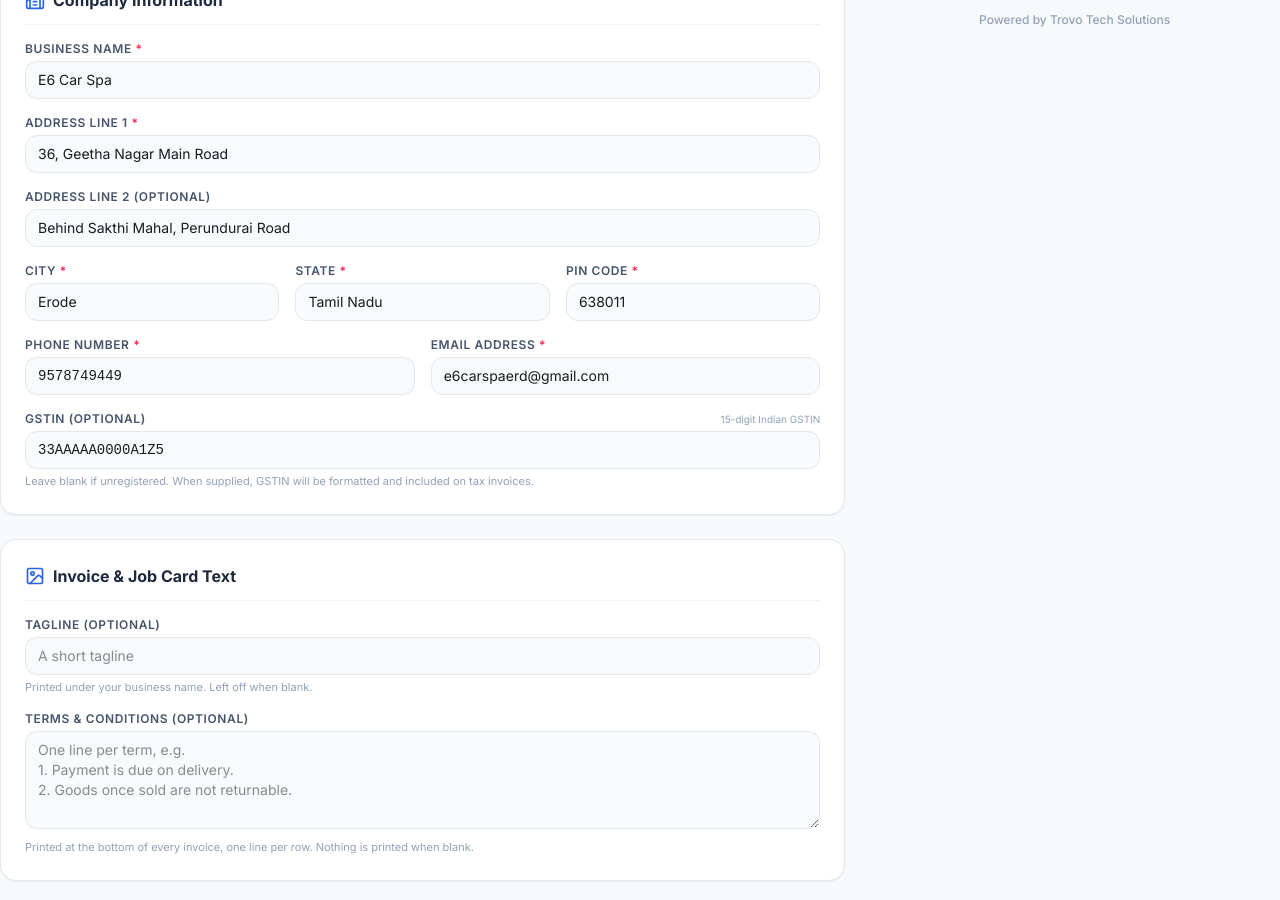
SettingsPage Component & Business Profile Boundary › validates GSTIN format on save and rejects malformed GSTIN
The width and height of the screenshot is (1280, 900).
(page scrolled)
Step 1. Replace the text in the field showing "33AAAAA0000A1Z5" below "GSTIN (Optional)" with "INVALID_GST_123" → point(423, 450), box [25,431,820,469]
(page scrolled)
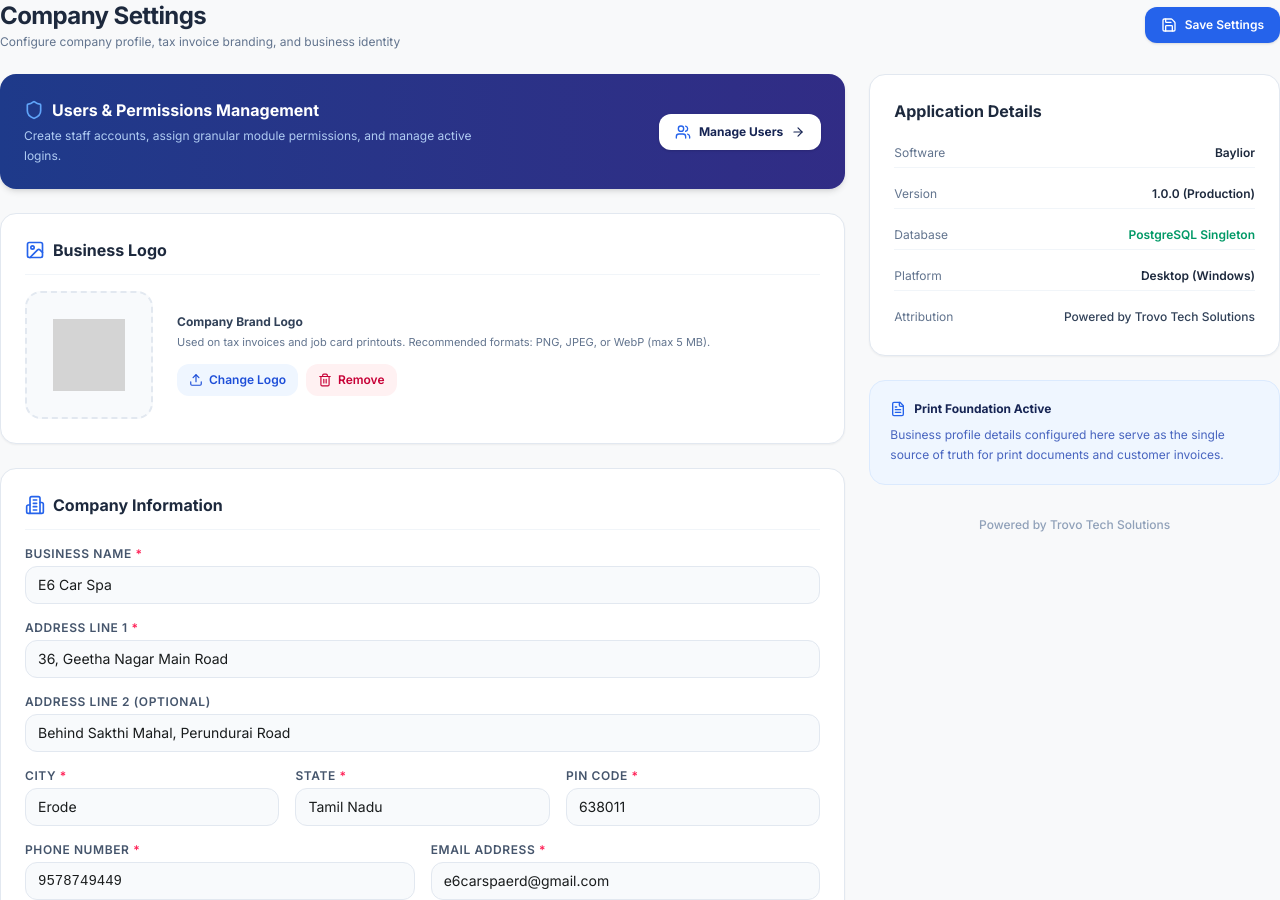
Step 2. Click the button "Save Settings" → point(1212, 25), box [1145,7,1279,43]
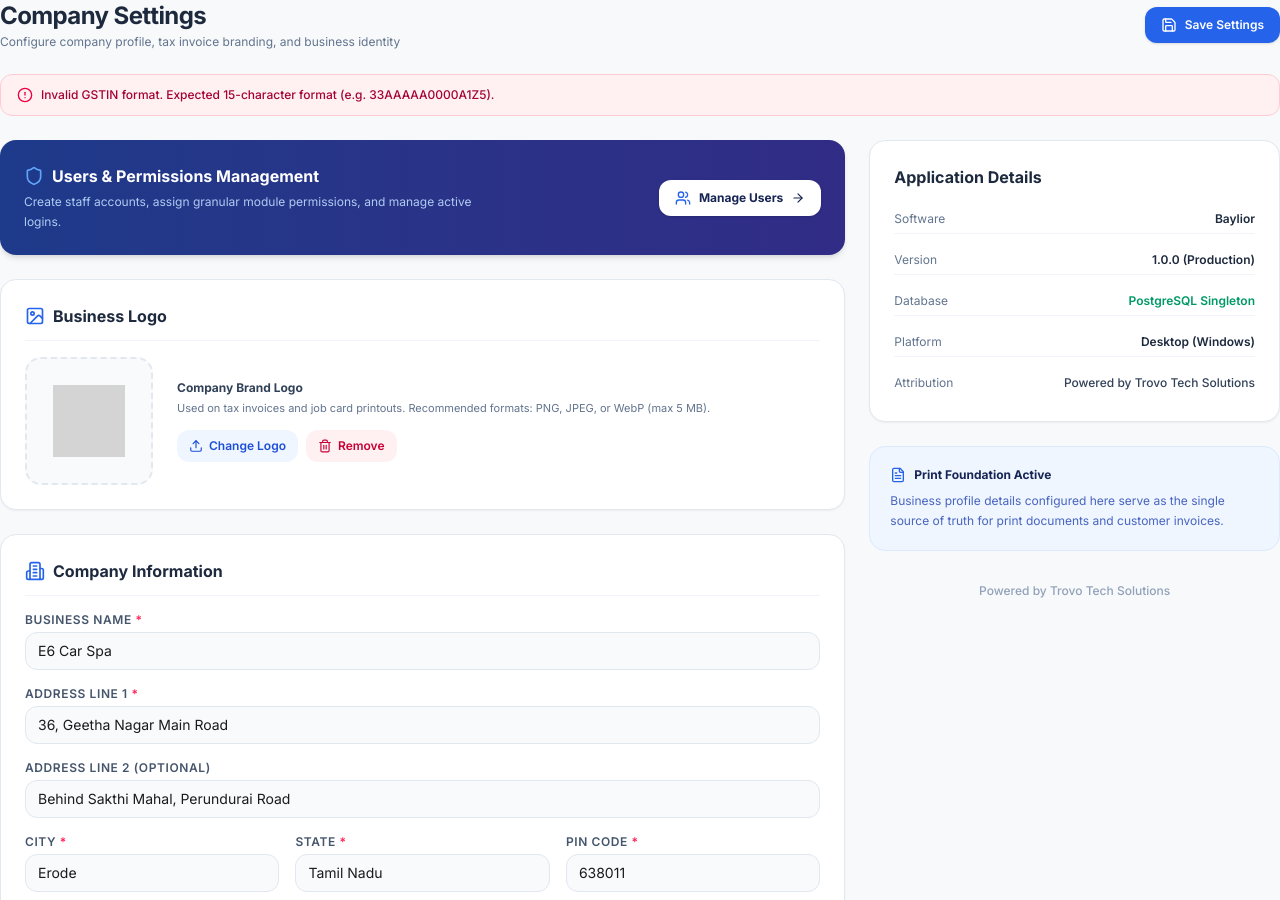
Expected: the text "Invalid GSTIN format. Expected 15-character format" is shown, [41,87,494,102]
